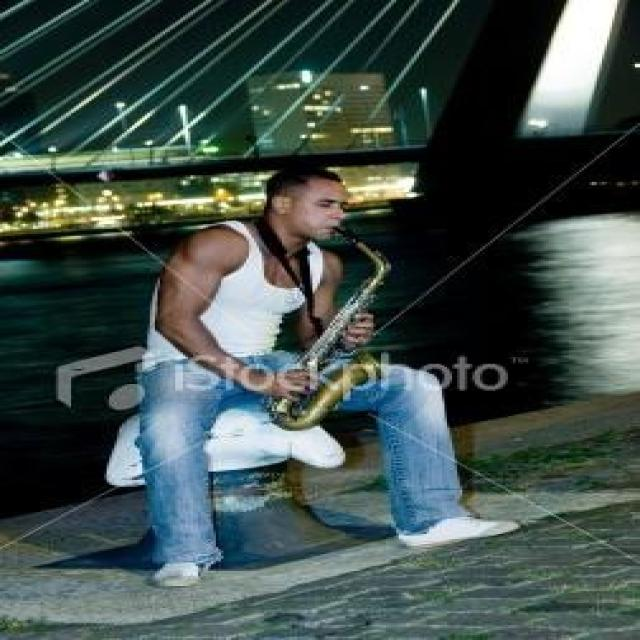saxophone: (263, 223, 394, 430)
